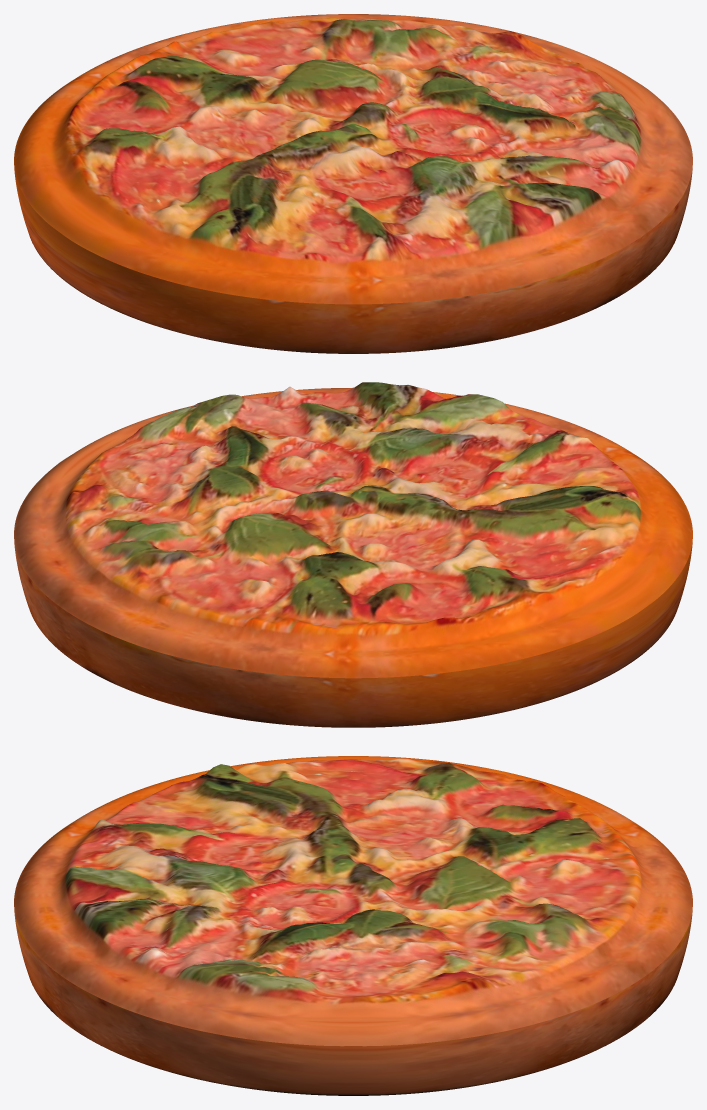
The model's file is margarita.glb.
3 renders of one model, top to bottom at view 1: azimuth 30°, elevation 25°; view 2: azimuth 150°, elevation 25°; view 3: azimuth 270°, elevation 25°, orthographic.
Parts seen in each view (by area): view 1: Margarita; view 2: Margarita; view 3: Margarita.
Part boxes in pixels (x1=…): Margarita: x1=14, y1=14, x2=692, y2=353; Margarita: x1=14, y1=382, x2=692, y2=727; Margarita: x1=14, y1=756, x2=692, y2=1095.
Size of the model in its own units: 0.36 by 0.055 by 0.36.
Materials: 2 (2 with a texture image).
